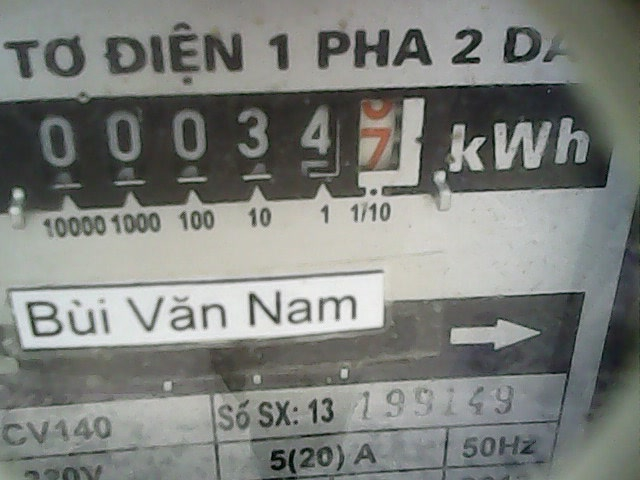phy_plate: (23, 90, 441, 201)
